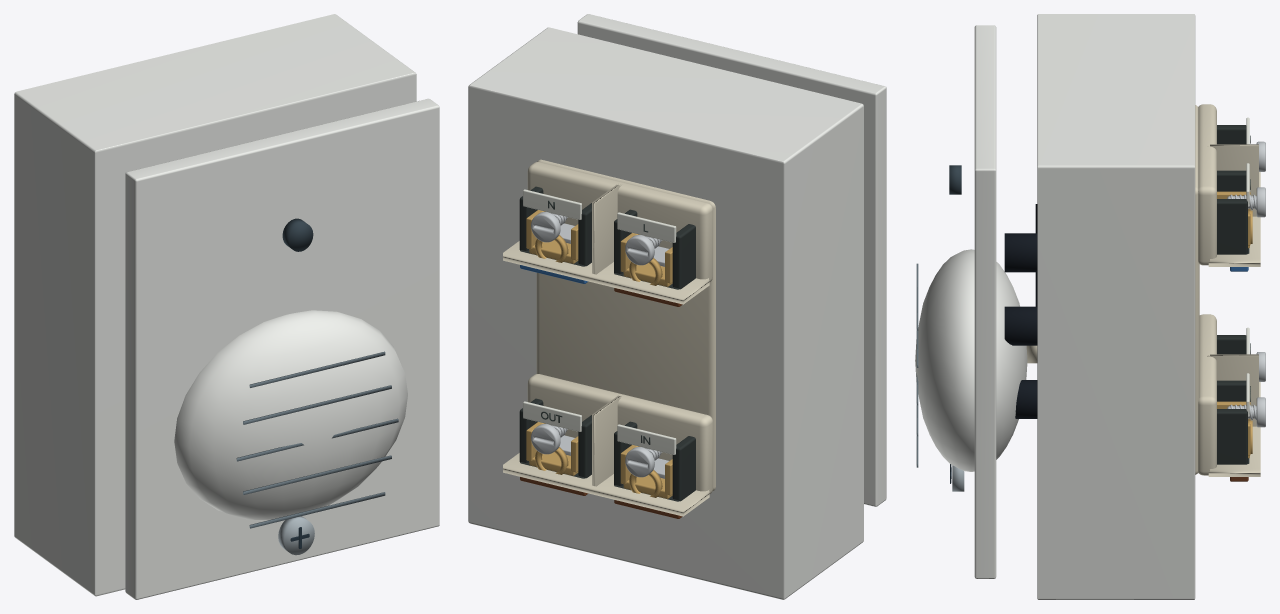
Rendered from sensor_mode_pir.glb.
3 views of the same model, side by side, from view 1: azimuth 30°, elevation 25°; view 2: azimuth 150°, elevation 25°; view 3: azimuth 270°, elevation 25° (orthographic). The views are drawn at different scales.
Visible parts, largest first — view 1: part:cover, part:body, part:sensing, part:sensing · Original 0905ee26, part:body.001; view 2: part:body, part:terminals · Original 5a609f27, part:cover, detail:terminal-clamp:L · Detail moulded engineering polymer, detail:terminal-clamp:IN · Detail moulded engineering polyme, detail:terminal-clamp:N · Detail moulded engineering polymer, detail:terminal-clamp:OUT · Detail moulded engineering polym, detail:terminal-clamp:IN · Detail machined brass, detail:terminal-clamp:L · Detail machined brass, detail:terminal-clamp:N · Detail machined brass, detail:terminal-clamp:OUT · Detail machined brass, Moulded terminal legend pad (+7 smaller); view 3: part:body, part:sensing, part:cover, part:terminals · Original 5a609f27, part:electronics · Original 3ff2d46d, detail:terminal-clamp:N · Detail moulded engineering polymer, detail:terminal-clamp:OUT · Detail moulded engineering polym, detail:terminal-clamp:IN · Detail moulded engineering polyme, detail:terminal-clamp:L · Detail moulded engineering polymer, part:sensing · Original 0905ee26, detail:terminal-clamp:N · Detail zinc plated fixing, detail:terminal-clamp:OUT · Detail zinc plated fixing.
Boxes of the visible parts, box(x1,y1,x2,y2) form: part:cover: box(125, 98, 439, 599); part:body: box(14, 14, 416, 596); part:sensing: box(174, 310, 407, 519); part:sensing · Original 0905ee26: box(236, 351, 398, 528); part:body.001: box(282, 218, 313, 251); part:body: box(468, 27, 863, 599); part:terminals · Original 5a609f27: box(503, 159, 715, 516); part:cover: box(577, 14, 886, 506); detail:terminal-clamp:L · Detail moulded engineering polymer: box(614, 209, 695, 289); detail:terminal-clamp:IN · Detail moulded engineering polyme: box(614, 421, 695, 501); detail:terminal-clamp:N · Detail moulded engineering polymer: box(519, 186, 591, 266); detail:terminal-clamp:OUT · Detail moulded engineering polym: box(519, 398, 591, 478); detail:terminal-clamp:IN · Detail machined brass: box(620, 445, 672, 498); detail:terminal-clamp:L · Detail machined brass: box(620, 233, 672, 286); detail:terminal-clamp:N · Detail machined brass: box(526, 210, 578, 263); detail:terminal-clamp:OUT · Detail machined brass: box(526, 422, 578, 475); Moulded terminal legend pad: box(617, 212, 676, 242); part:body: box(1037, 14, 1195, 599); part:sensing: box(915, 249, 1027, 471); part:cover: box(952, 25, 996, 578); part:terminals · Original 5a609f27: box(1195, 104, 1260, 476); part:electronics · Original 3ff2d46d: box(1004, 204, 1037, 418); detail:terminal-clamp:N · Detail moulded engineering polymer: box(1217, 170, 1249, 254); detail:terminal-clamp:OUT · Detail moulded engineering polym: box(1217, 380, 1249, 464); detail:terminal-clamp:IN · Detail moulded engineering polyme: box(1217, 335, 1246, 354); detail:terminal-clamp:L · Detail moulded engineering polymer: box(1217, 125, 1246, 144); part:sensing · Original 0905ee26: box(916, 263, 918, 467); detail:terminal-clamp:N · Detail zinc plated fixing: box(1227, 187, 1265, 217); detail:terminal-clamp:OUT · Detail zinc plated fixing: box(1227, 397, 1265, 427).
Size of the model in its own units: 0.6262 by 0.8286 by 0.606.
